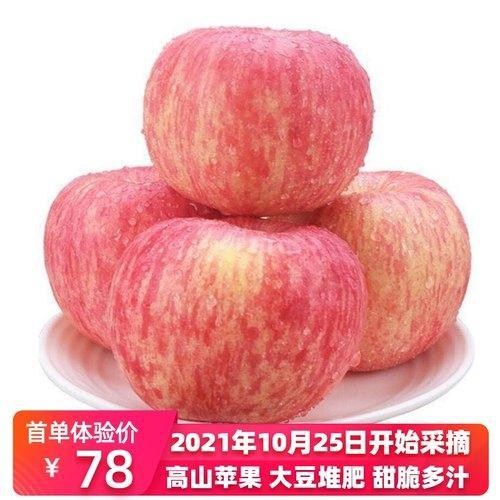apple: (114, 217, 365, 431), (141, 25, 375, 216), (294, 169, 471, 370), (40, 165, 216, 352)
